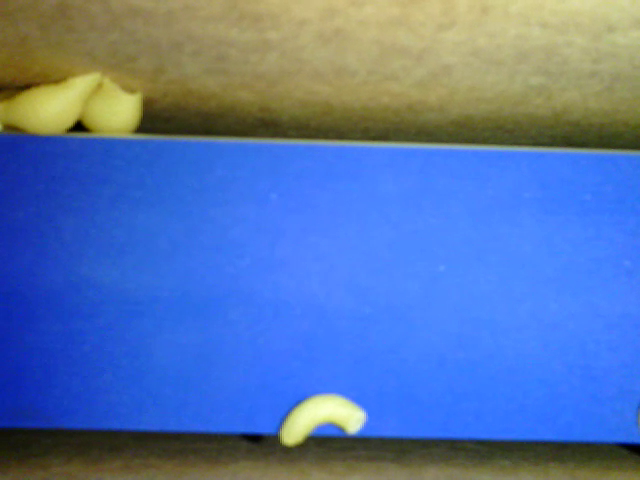elbow: (277, 391, 369, 444)
shell: (1, 68, 104, 135), (79, 75, 145, 135)
